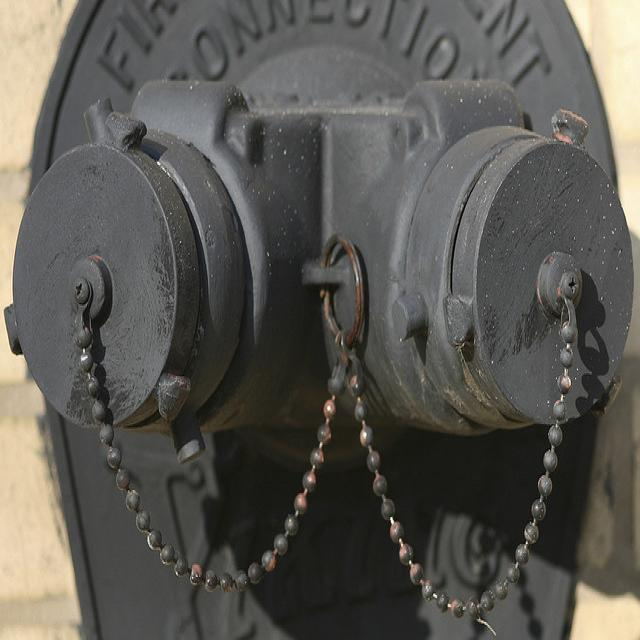fire_hydrant: (4, 1, 633, 632)
